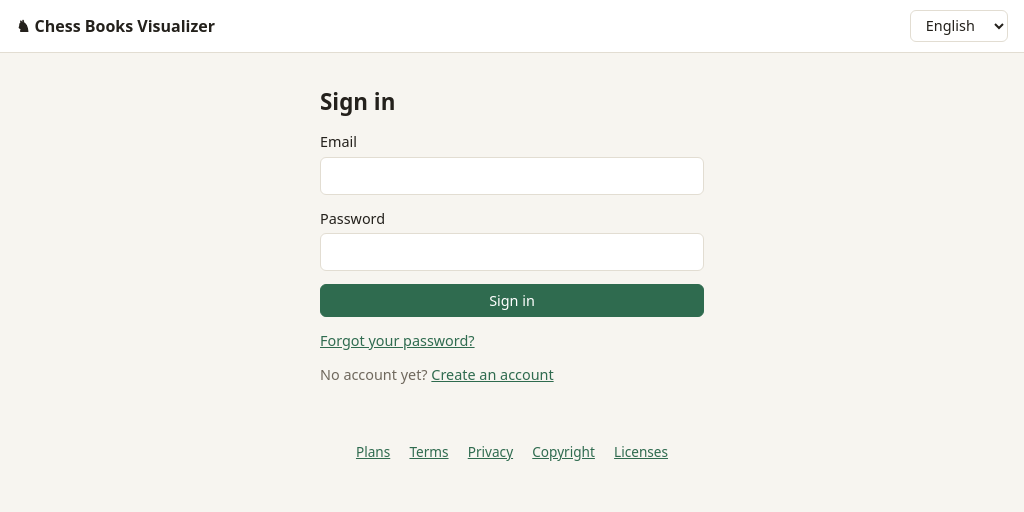
Test case: a closed account › is told so when signing in
This screenshot has width=1024, height=512.
Type "ana@example.com" into the field labelled "Email".
click(512, 176); type("ana@example.com")  # box left=320, top=157, right=704, bottom=195
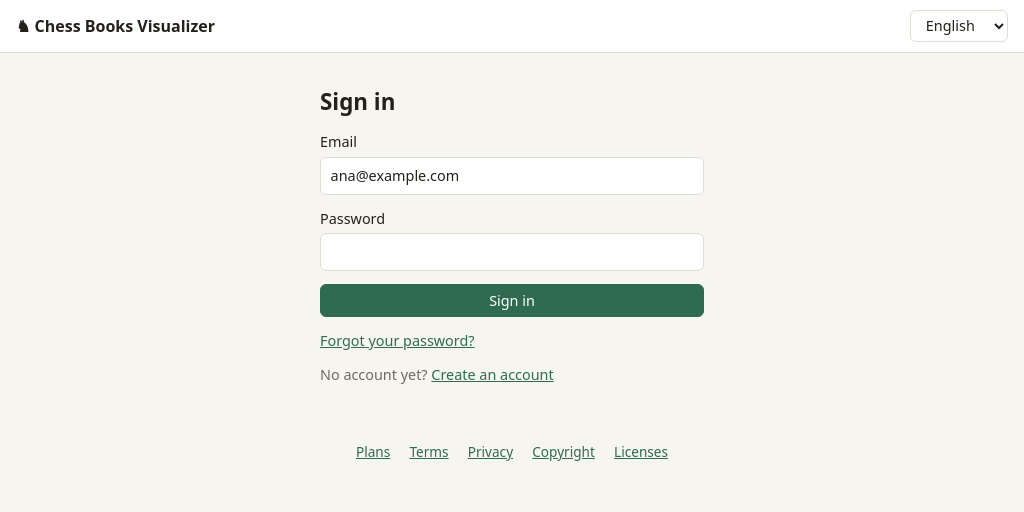
Type "correct horse" into the password field labelled "Password".
click(512, 252); type("correct horse")  # box left=320, top=233, right=704, bottom=271
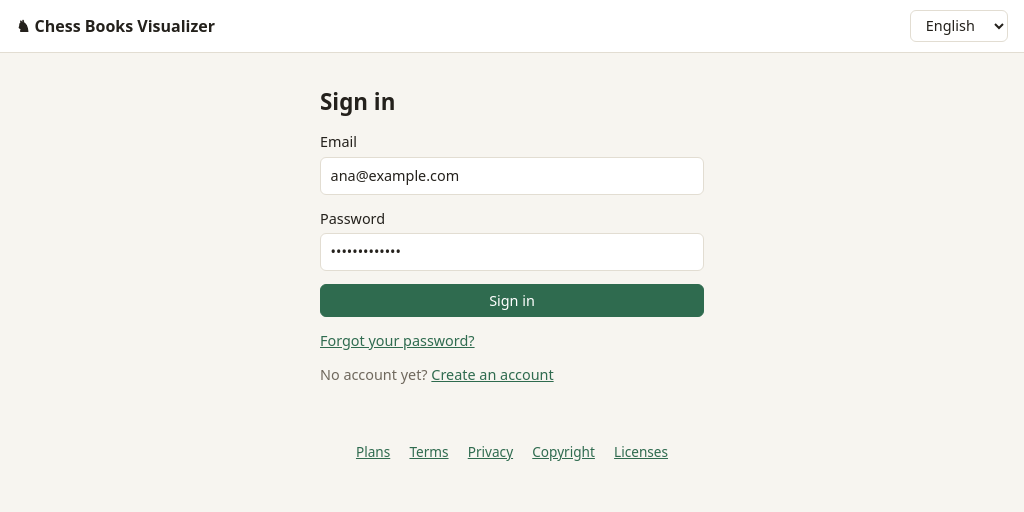
Click the button "Sign in".
click(512, 300)  # box left=320, top=284, right=704, bottom=317
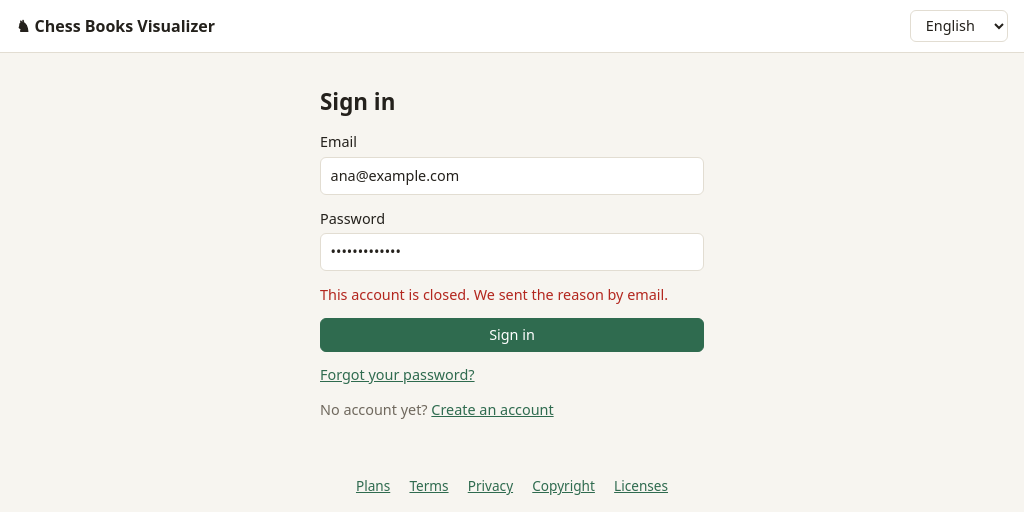
Result: the message reads "This account is closed. We sent the reason by email." at left=320, top=285, right=668, bottom=304
